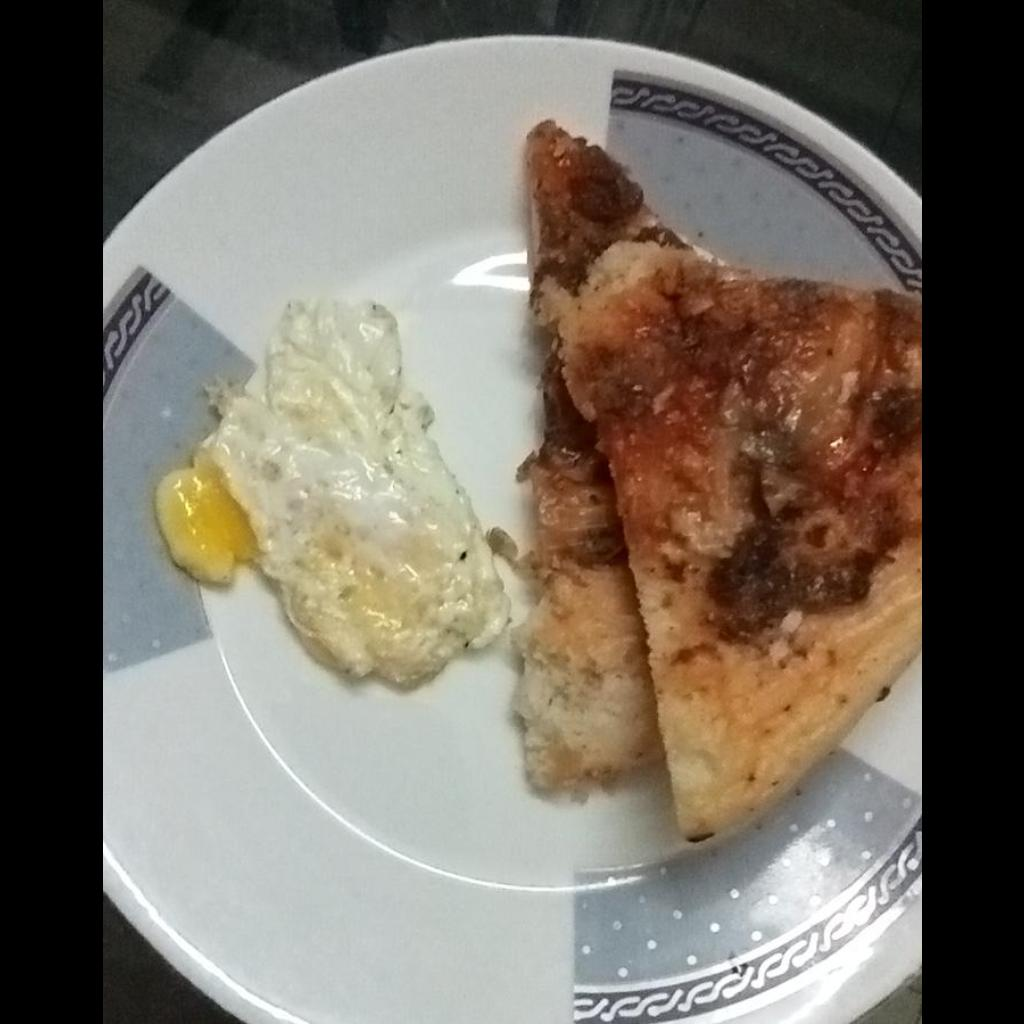egg-poached: (154, 300, 510, 686)
ruti: (509, 119, 920, 844)
